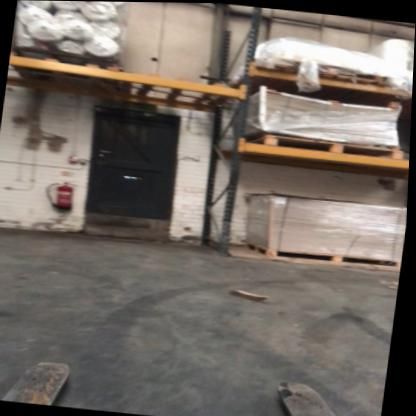vertical_damage: (220, 215, 241, 236)
